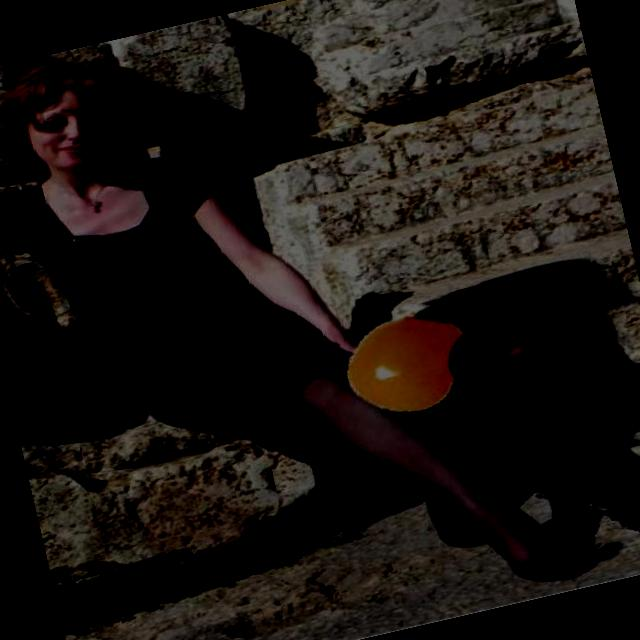Apple: (438, 314, 546, 404)
